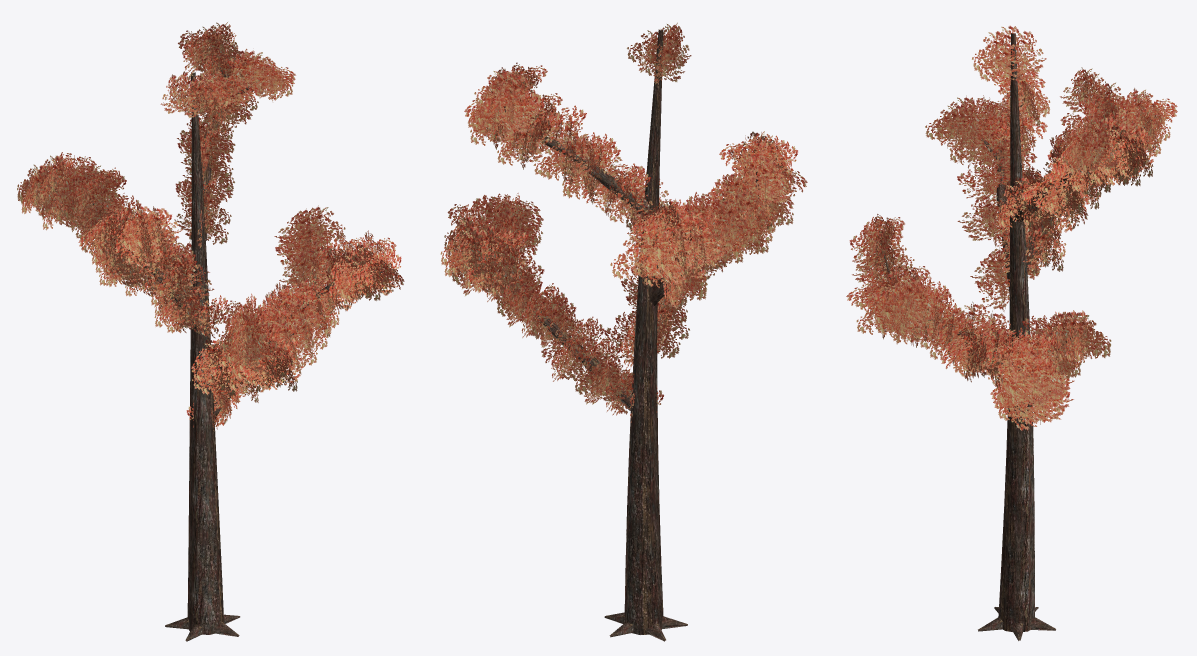
The model's file is tree_3d_06_copper_lod0.glb.
3 views of the same model, side by side, from view 1: azimuth 30°, elevation 25°; view 2: azimuth 150°, elevation 25°; view 3: azimuth 270°, elevation 25° (orthographic). The views are drawn at different scales.
Visible parts, largest first — view 1: foliage_cards, wood_geometry; view 2: foliage_cards, wood_geometry; view 3: foliage_cards, wood_geometry.
Boxes of the visible parts, left/top/right/bottom form: foliage_cards: left=17, top=22, right=404, bottom=431; wood_geometry: left=46, top=61, right=382, bottom=641; foliage_cards: left=440, top=22, right=807, bottom=422; wood_geometry: left=494, top=29, right=759, bottom=641; foliage_cards: left=846, top=25, right=1177, bottom=430; wood_geometry: left=880, top=33, right=1155, bottom=640.
Size of the model in its own units: 5.21 by 8.1 by 4.24.
2 materials, 2 textured.
